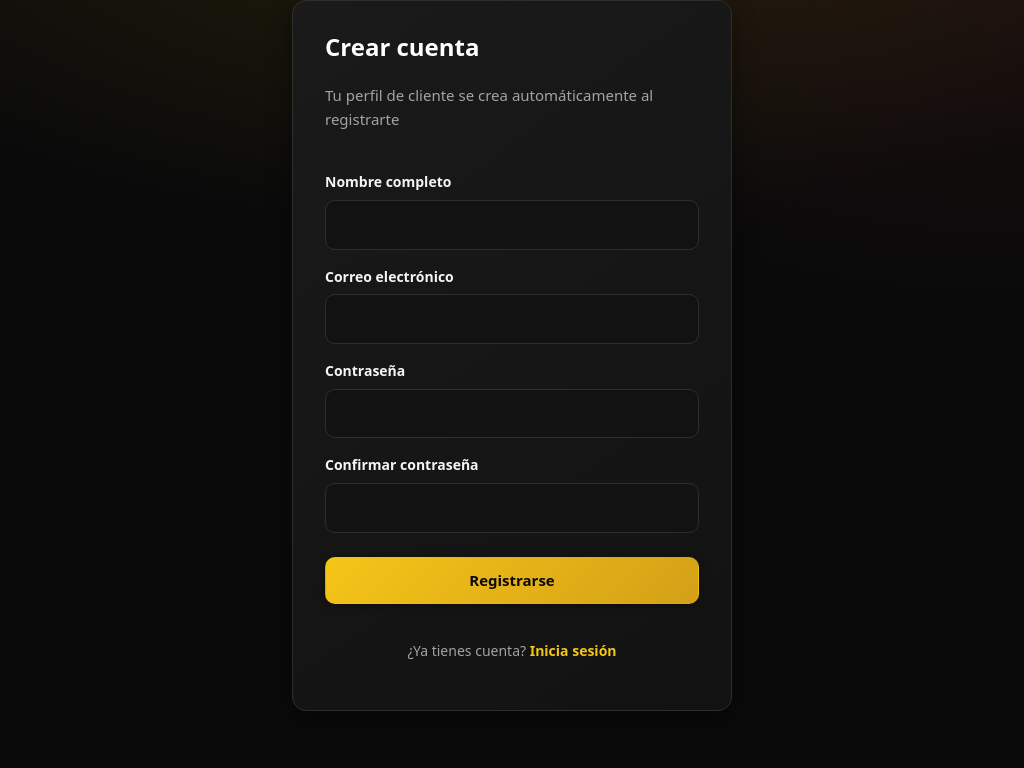
RegisterPage › rechaza contraseñas distintas
The image size is (1024, 768).
Type "Ana Test" into the field labelled "Nombre completo" at (512, 225), box [325, 200, 699, 250]
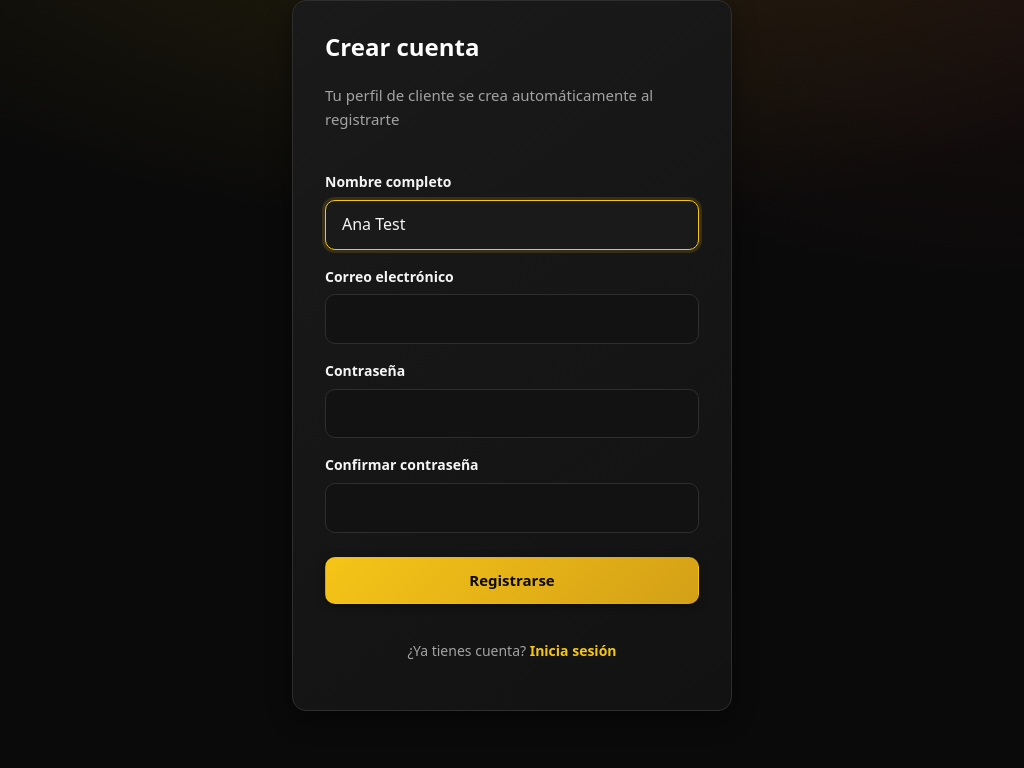
Type "ana@test.com" into the field labelled "Correo electrónico" at (512, 319), box [325, 294, 699, 344]
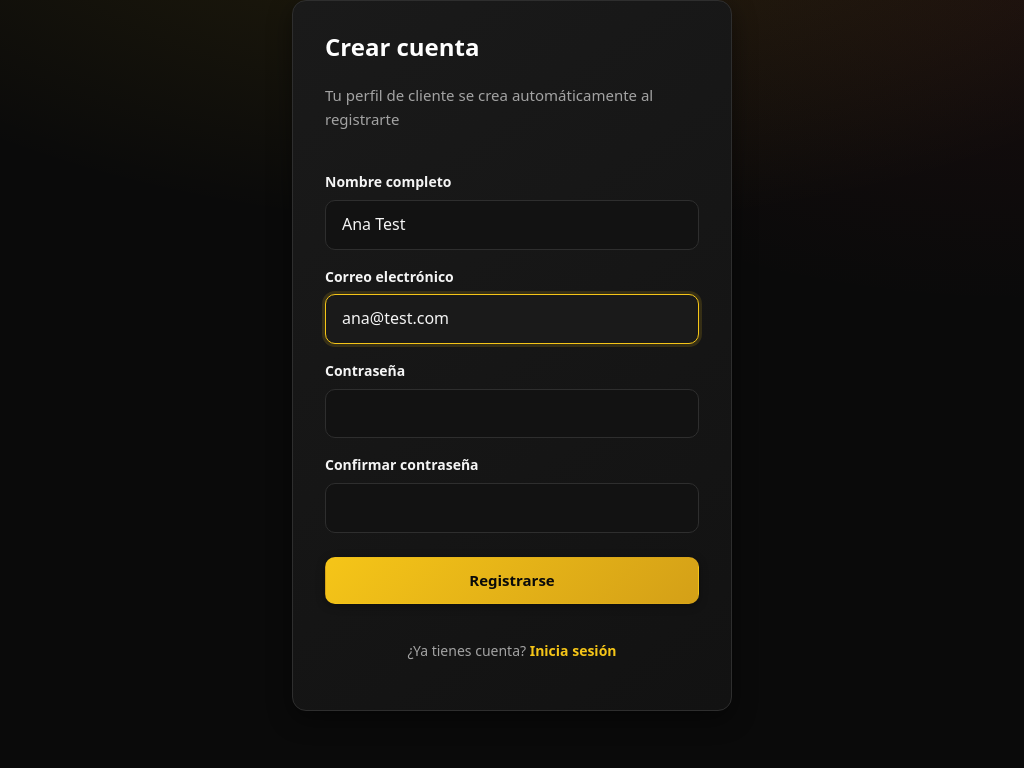
Type "123456" into the password field labelled "Contraseña" at (512, 414), box [325, 388, 699, 438]
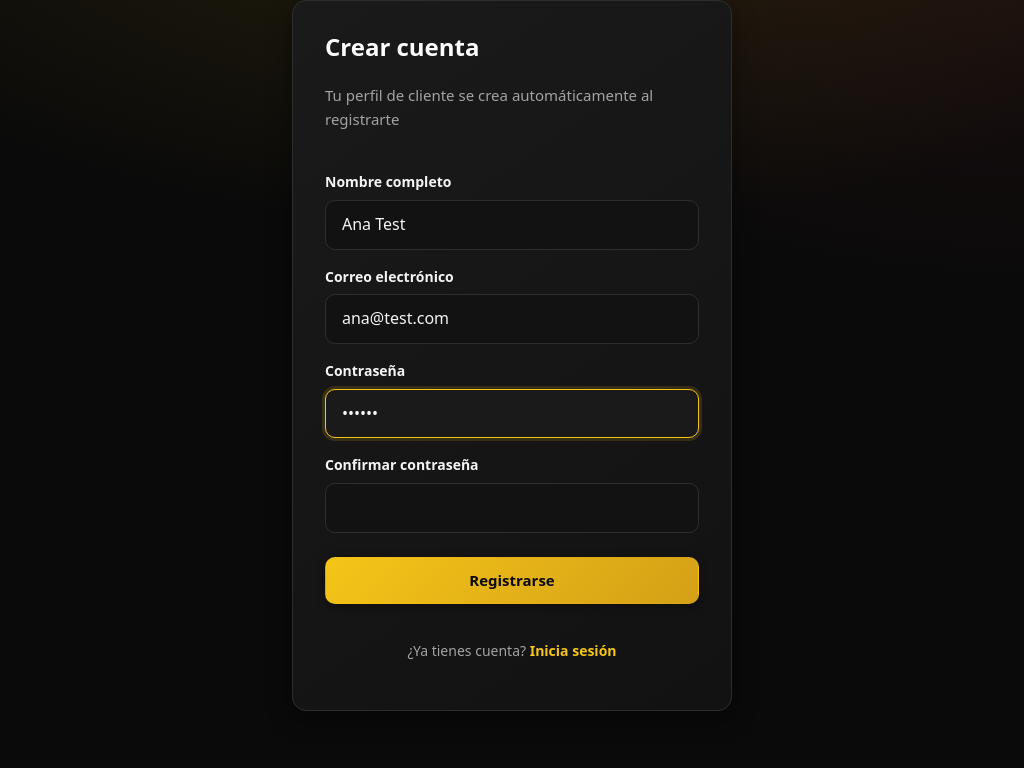
Type "654321" into the password field labelled "Confirmar contraseña" at (512, 508), box [325, 483, 699, 533]
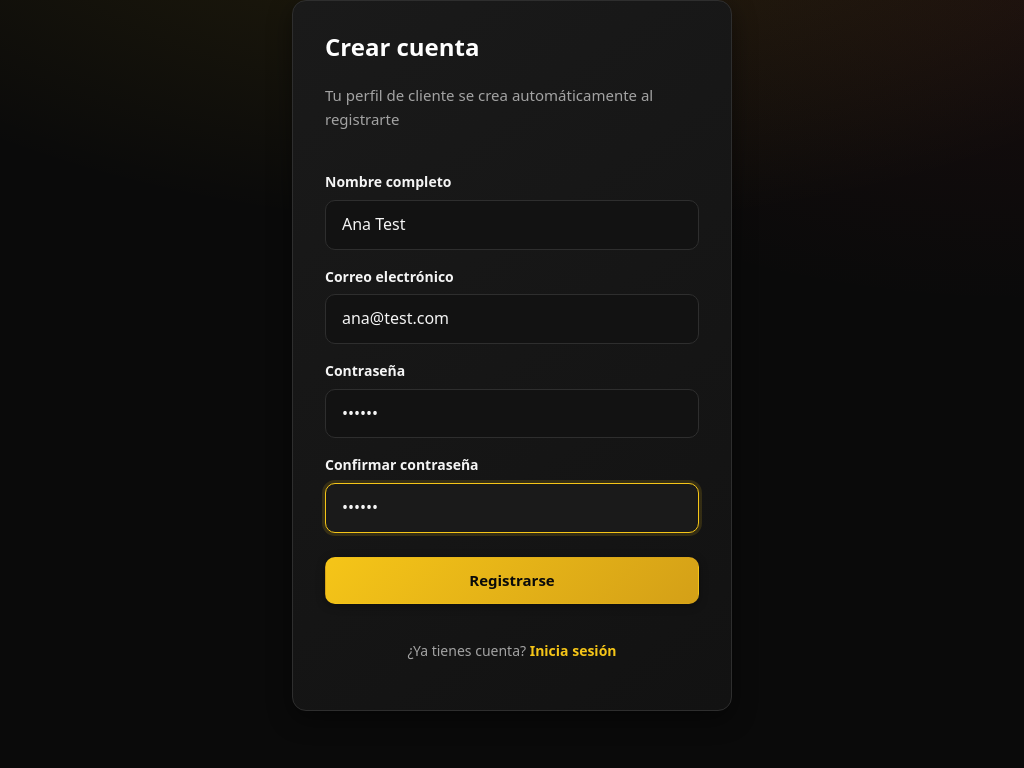
Click the button "Registrarse" at (512, 580), box [325, 557, 699, 604]
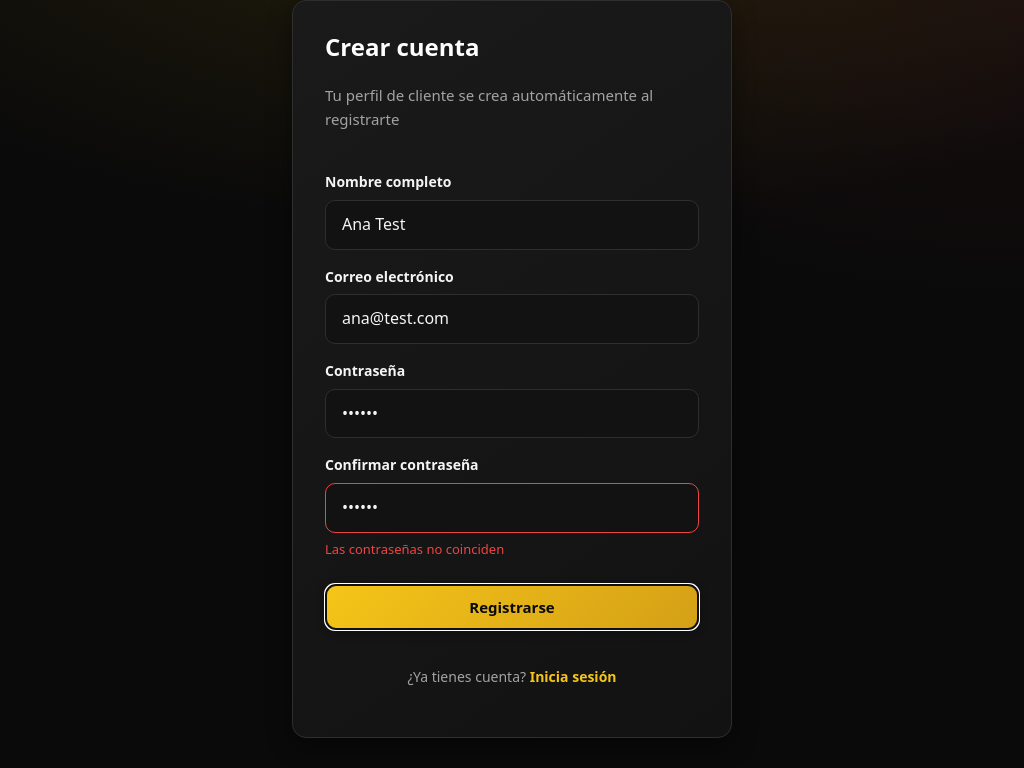
Check: the text "Las contraseñas no coinciden" is shown, box [325, 540, 504, 558]
